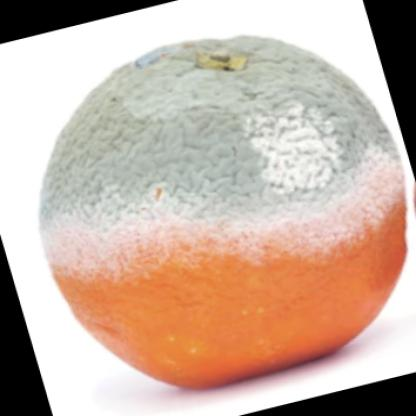rotten: (40, 37, 405, 391)
